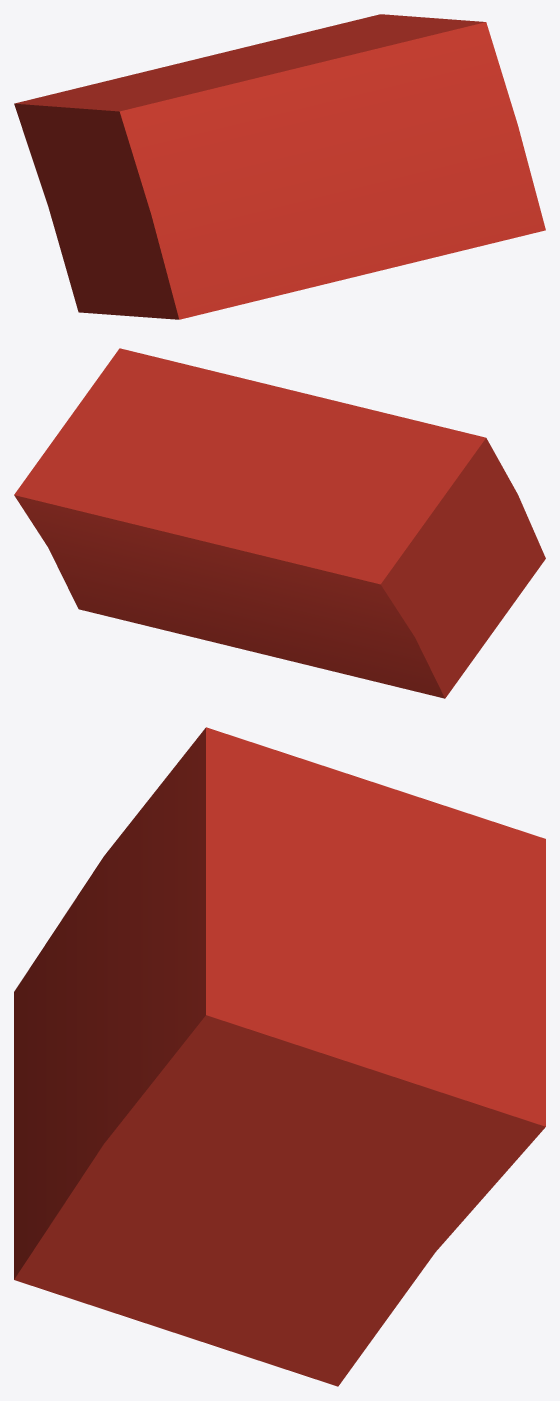
File: EBoxNewAsm_stp_1_Beelink_mini_PC_v4_stp_1_Beelink_mini_PC_v4_56_stp_1_solid1.obj
The picture shows the model from 3 angles, top to bottom: view 1: azimuth 30°, elevation 25°; view 2: azimuth 150°, elevation 25°; view 3: azimuth 270°, elevation 25°; orthographic projection. The views are drawn at different scales.
Parts seen in each view (by area): view 1: mesh15062, mesh15061, mesh15063; view 2: mesh15063, mesh15064, mesh15061; view 3: mesh15059, mesh15063, mesh15062.
Boxes of the visible parts, x1=… form: mesh15062: x1=119, y1=22, x2=545, y2=319; mesh15061: x1=14, y1=103, x2=178, y2=319; mesh15063: x1=15, y1=14, x2=485, y2=111; mesh15063: x1=14, y1=348, x2=485, y2=584; mesh15064: x1=14, y1=495, x2=444, y2=698; mesh15061: x1=381, y1=438, x2=545, y2=698; mesh15059: x1=14, y1=1015, x2=545, y2=1386; mesh15063: x1=206, y1=727, x2=545, y2=1126; mesh15062: x1=14, y1=728, x2=205, y2=1279.
Bounding box in the file's own units: 0.001 × 0.000602 × 0.000781.
